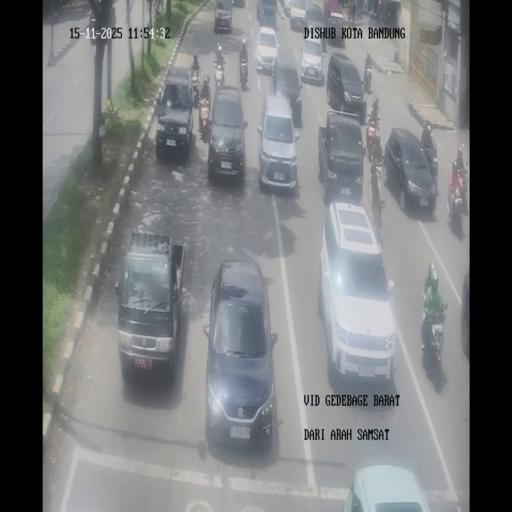car: (204, 257, 278, 452), (318, 204, 394, 389), (114, 229, 184, 382), (384, 128, 438, 214), (317, 110, 365, 206), (257, 90, 299, 194), (340, 464, 432, 510), (154, 66, 196, 160), (207, 84, 247, 182), (327, 52, 367, 122), (255, 26, 279, 75), (300, 36, 324, 84), (302, 3, 328, 44), (214, 0, 233, 33), (288, 0, 308, 31), (256, 0, 278, 28), (324, 0, 346, 23), (88, 10, 98, 42), (282, 0, 292, 16)
motorcycle: (421, 293, 447, 363), (446, 166, 468, 227), (369, 161, 384, 229), (365, 119, 381, 164), (199, 102, 211, 142), (426, 146, 438, 186), (190, 59, 201, 100), (362, 58, 373, 92), (239, 55, 249, 89), (214, 59, 224, 88), (368, 5, 379, 24), (378, 0, 386, 24), (321, 32, 329, 54), (349, 0, 356, 23)
